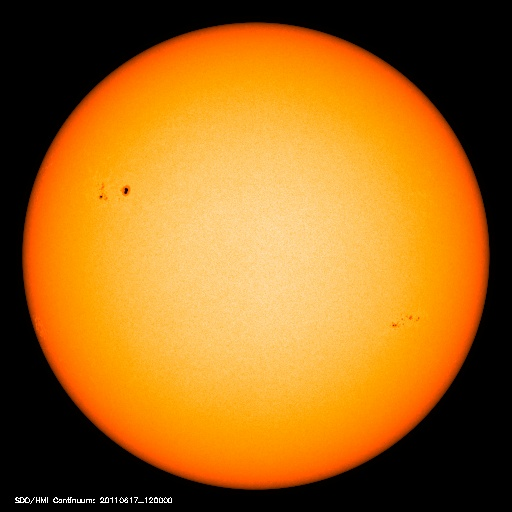sunspot: (86, 178, 137, 208), (385, 307, 425, 336)
